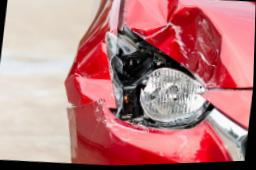Bonnet: (122, 0, 250, 90)
Bumper: (63, 42, 248, 166)
Light: (107, 24, 213, 130)
